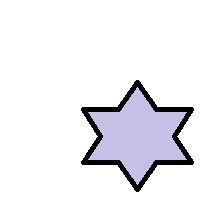star: (80, 81, 194, 192)
